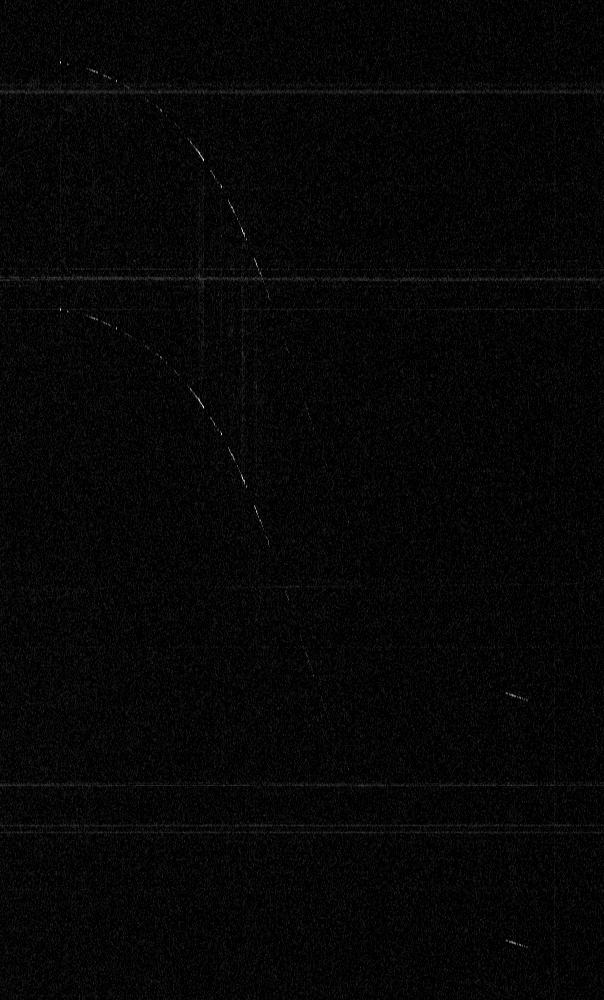signal: (0, 0, 603, 999)
